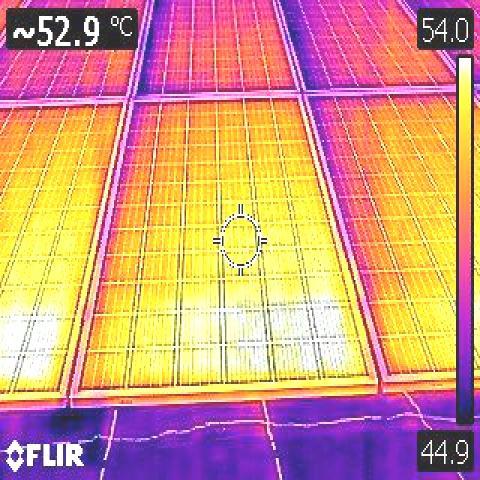fault: (236, 300, 350, 375), (2, 300, 63, 384)
